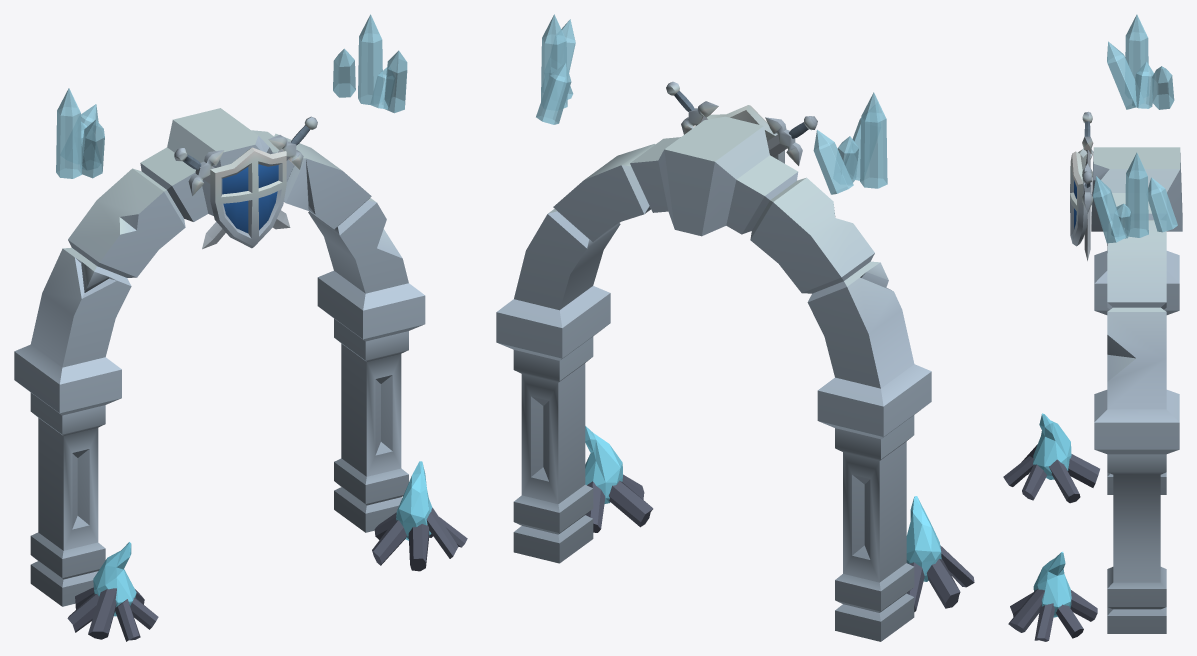
File: boss_gate.fbx
3 views of the same model, side by side, from view 1: azimuth 30°, elevation 25°; view 2: azimuth 150°, elevation 25°; view 3: azimuth 270°, elevation 25° (orthographic). The views are drawn at different scales.
Parts seen in each view (by area): view 1: boss_gate; view 2: boss_gate; view 3: boss_gate.
Part boxes in pixels (x1,y1,x2,y2): boss_gate: (14,14,467,641); boss_gate: (496,14,974,641); boss_gate: (1003,14,1182,641).
Bounding box in the file's own units: 4.24 × 5.31 × 1.81.
